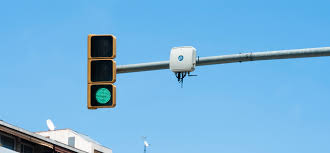traffic light: (73, 20, 129, 119)
